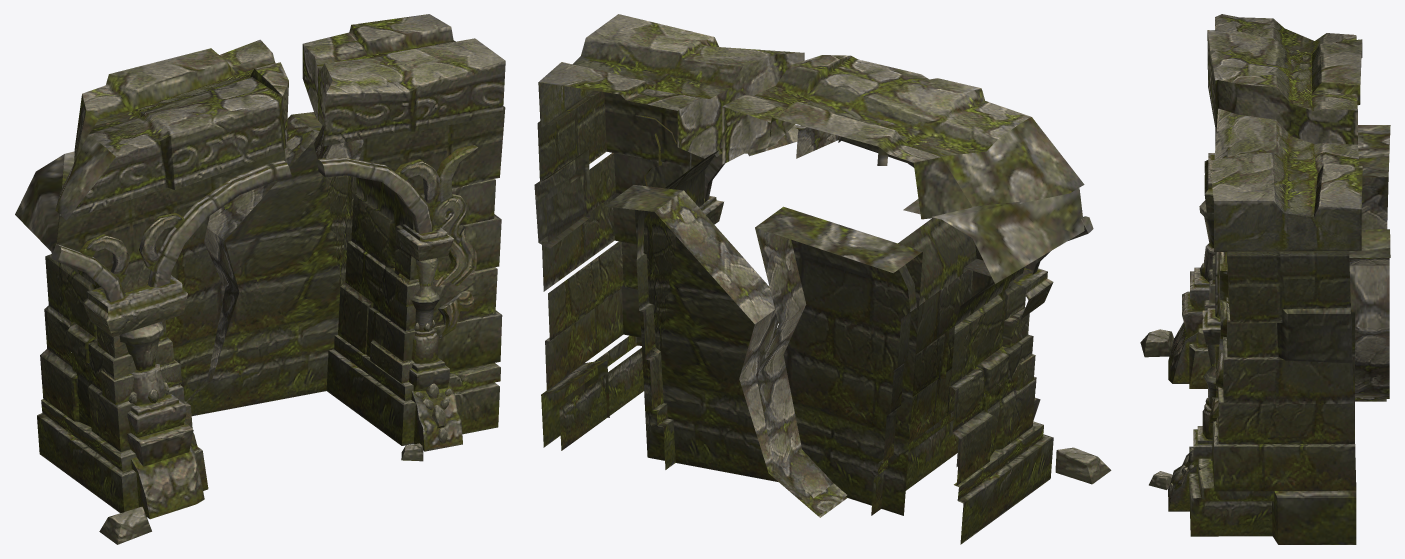
Rendered from 4009_Item_qiang_broken_1.FBX.
3 renders of one model, left to right at view 1: azimuth 30°, elevation 25°; view 2: azimuth 150°, elevation 25°; view 3: azimuth 270°, elevation 25°, orthographic. The views are drawn at different scales.
Parts seen in each view (by area): view 1: 4009_Item_qiang_broken_1; view 2: 4009_Item_qiang_broken_1; view 3: 4009_Item_qiang_broken_1.
Boxes of the visible parts, x1,y1,x2,y2 form: 4009_Item_qiang_broken_1: (15,14,505,544); 4009_Item_qiang_broken_1: (534,14,1111,544); 4009_Item_qiang_broken_1: (1140,14,1390,544).
Bounding box in the file's own units: 629 × 495 × 306.
